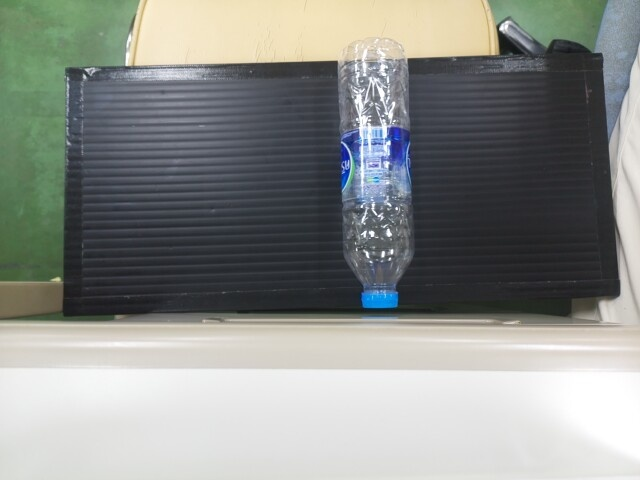plastic_bottle: (332, 39, 413, 307)
